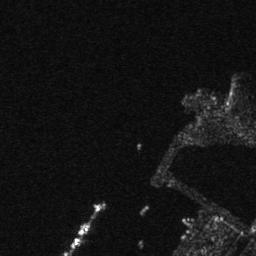ship: (137, 204, 150, 215), (136, 141, 142, 152)
